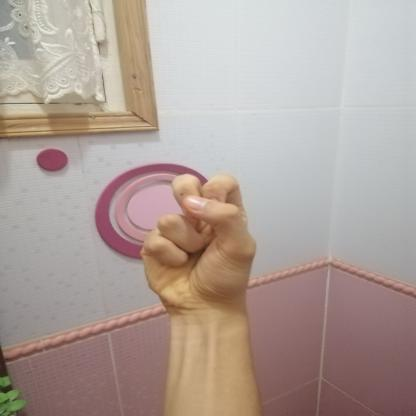QAAF: (118, 164, 286, 324)
